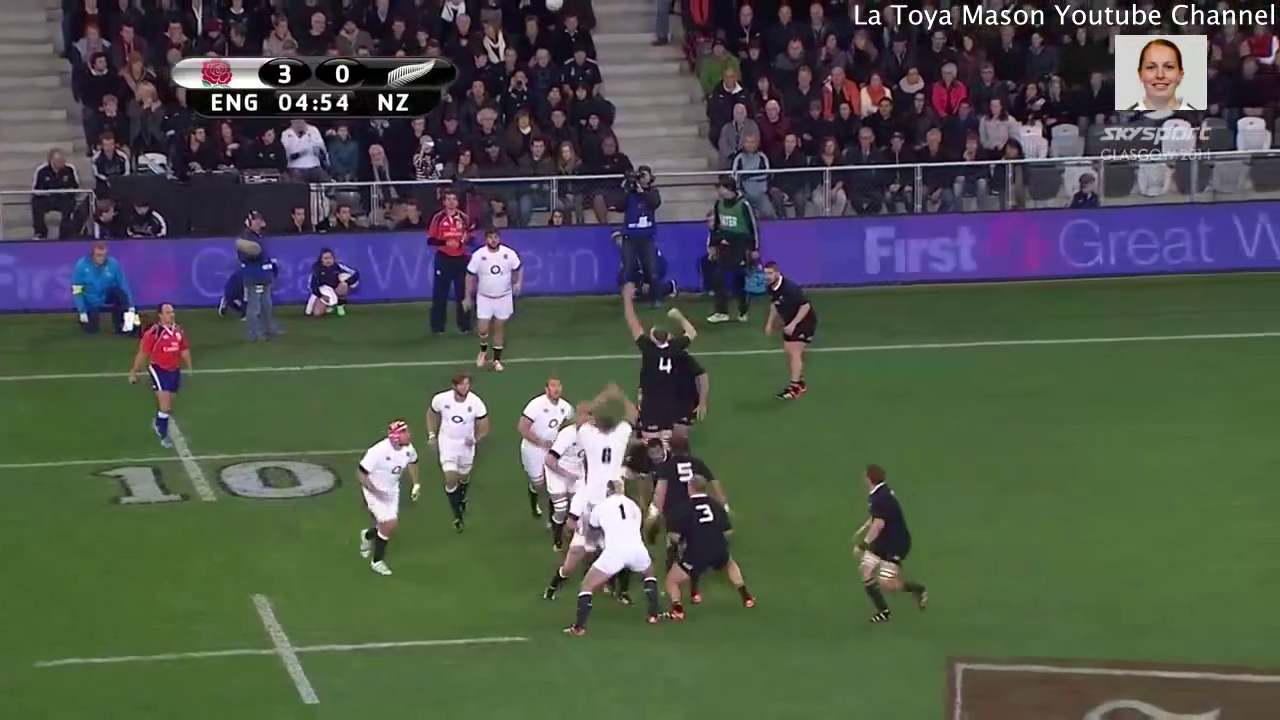10_metre: (1, 586, 534, 717), (1, 406, 414, 524)
ball: (538, 1, 570, 16)
lineout: (494, 337, 781, 647)
player: (553, 472, 665, 634), (652, 471, 764, 621), (618, 266, 702, 452), (845, 468, 936, 626), (419, 366, 499, 543), (343, 415, 423, 576), (457, 216, 531, 373), (753, 253, 825, 404), (564, 384, 640, 503), (515, 370, 566, 533), (645, 431, 733, 511)
